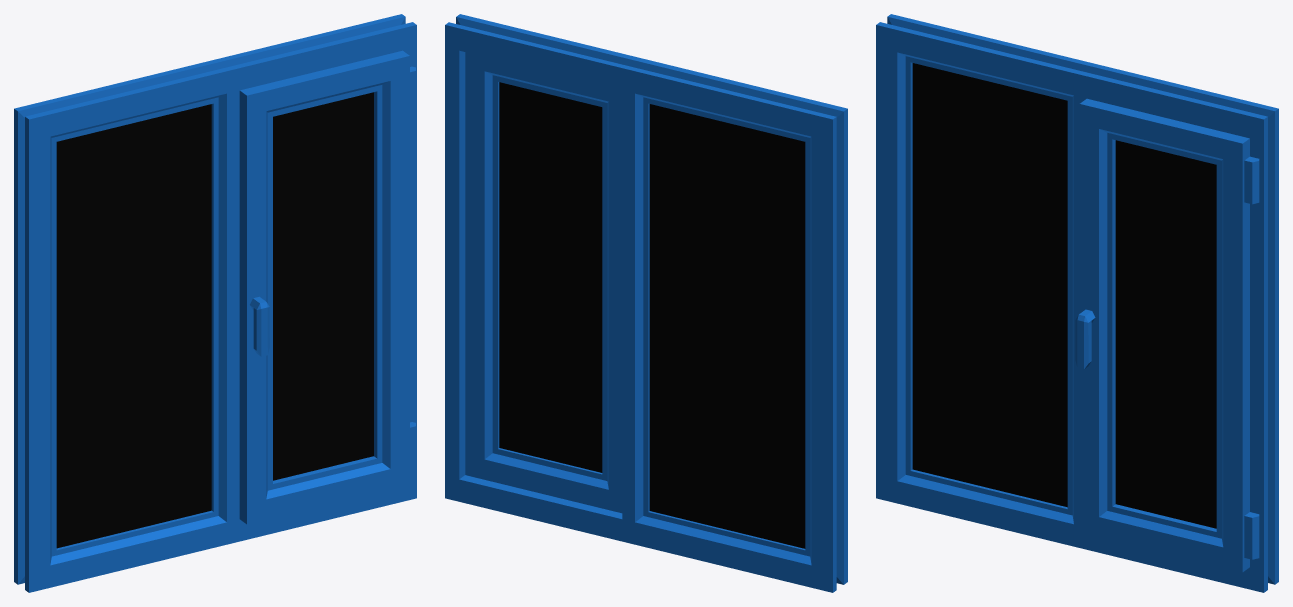
The model's file is space_window_4.fbx.
3 views of the same model, side by side, from view 1: azimuth 30°, elevation 25°; view 2: azimuth 150°, elevation 25°; view 3: azimuth 330°, elevation 25° (orthographic).
Visible parts, largest first — view 1: Cube_85; view 2: Cube_85; view 3: Cube_85.
Part boxes in pixels (x1,y1,x2,y2): Cube_85: [14, 14, 416, 592]; Cube_85: [445, 14, 847, 592]; Cube_85: [876, 14, 1278, 592].
Size of the model in its own units: 120 by 140 by 16.28.
